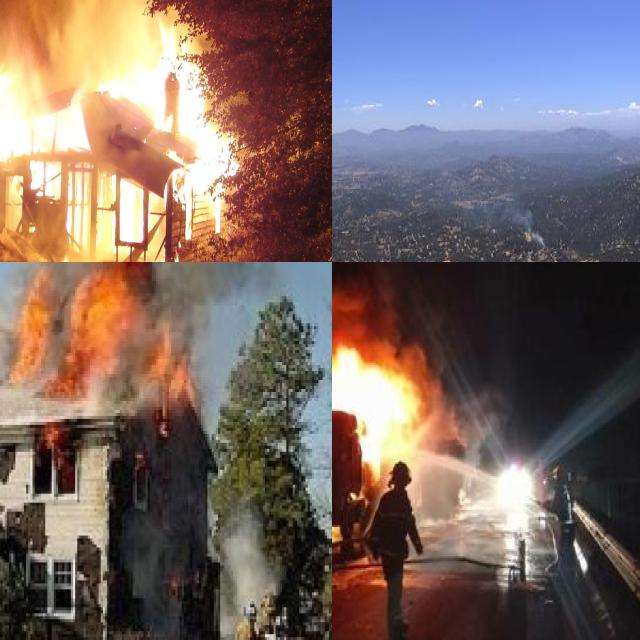fire: (0, 0, 261, 262), (0, 262, 198, 406), (332, 354, 413, 470)
smoke: (0, 0, 199, 62), (332, 262, 435, 378), (210, 515, 269, 631), (463, 185, 551, 253)
